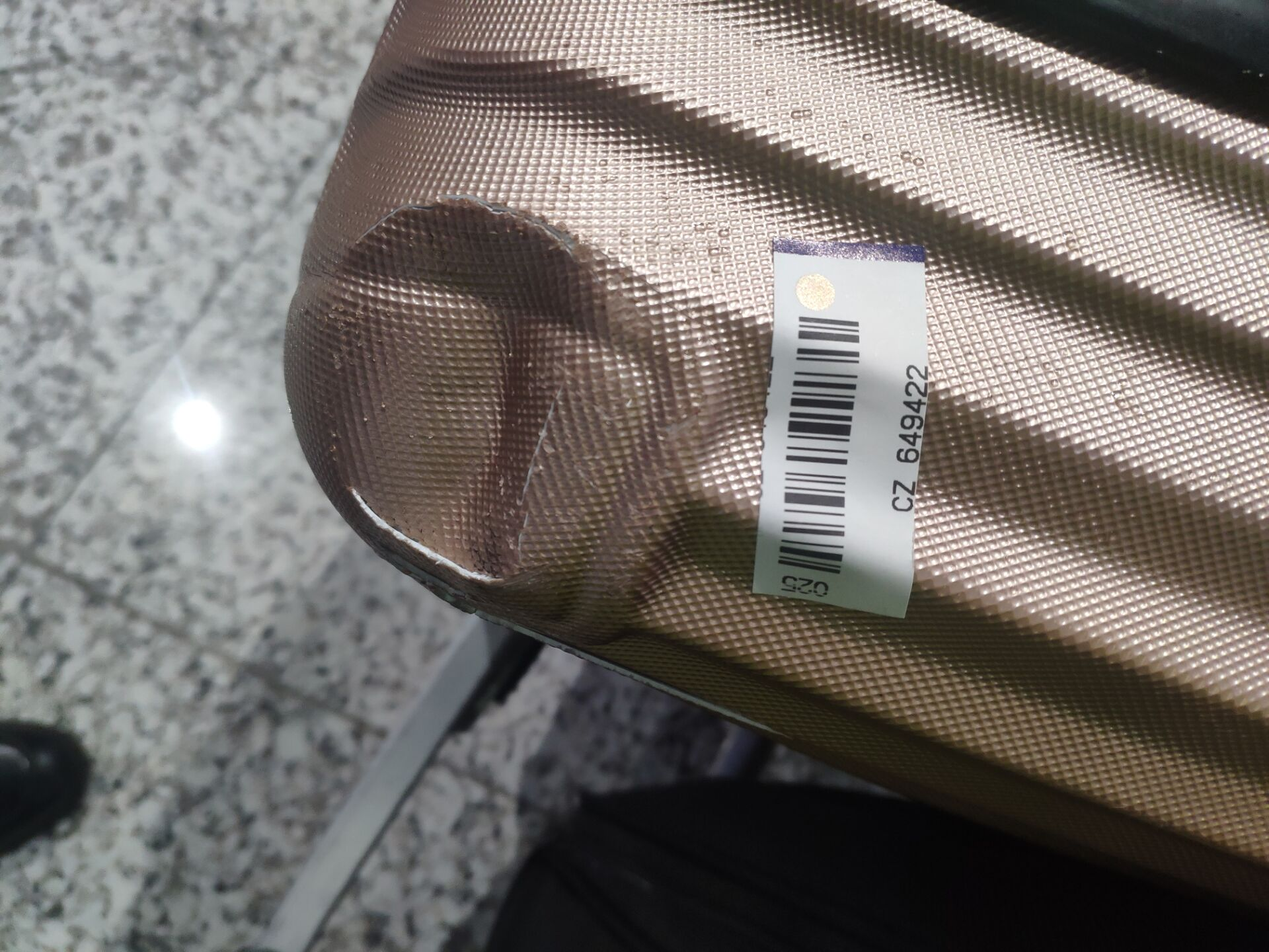hollow: (313, 197, 607, 596)
scratch: (352, 489, 504, 584), (355, 197, 574, 262)
